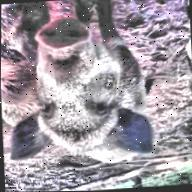boar: (0, 9, 150, 180)
